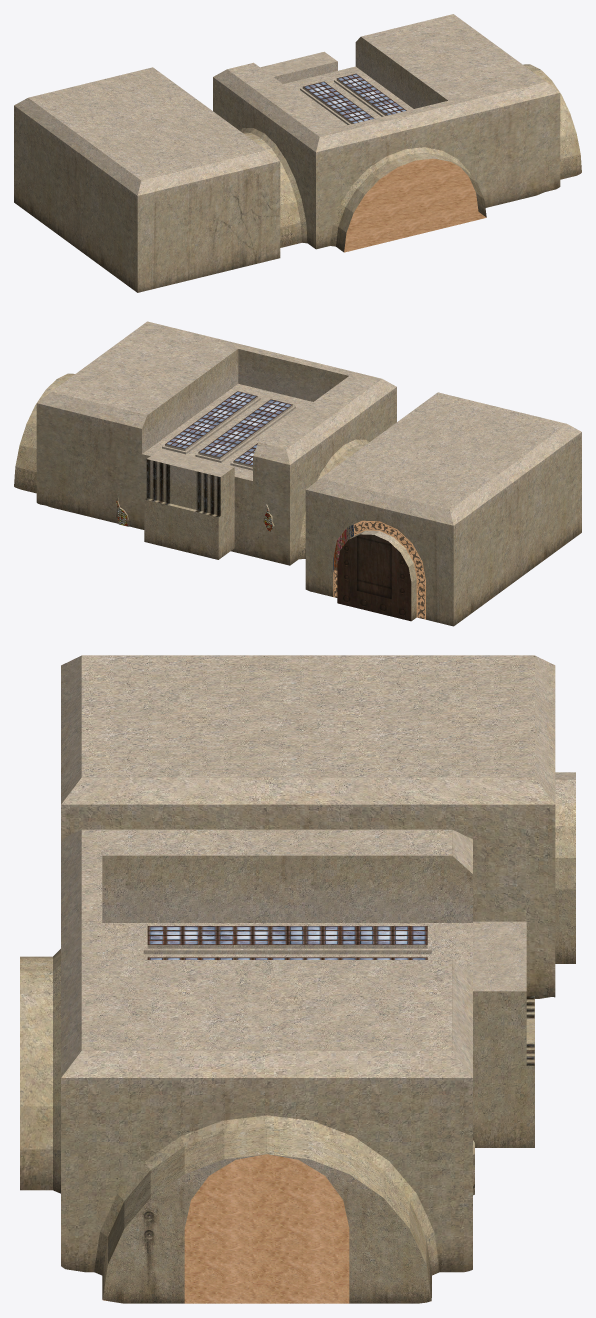
Rendered from thm_tato_jabbas_palace_r40_display_mesh_r40.fbx.
The picture shows the model from 3 angles, top to bottom: view 1: azimuth 30°, elevation 25°; view 2: azimuth 150°, elevation 25°; view 3: azimuth 270°, elevation 25°; orthographic projection. The views are drawn at different scales.
Parts seen in each view (by area): view 1: mesh_node; view 2: mesh_node; view 3: mesh_node.
Boxes of the visible parts, <box> form: mesh_node: <box>14,14,581,292</box>; mesh_node: <box>14,321,581,626</box>; mesh_node: <box>20,655,575,1303</box>.
Size of the model in its own units: 25.5 by 5.71 by 13.5.
